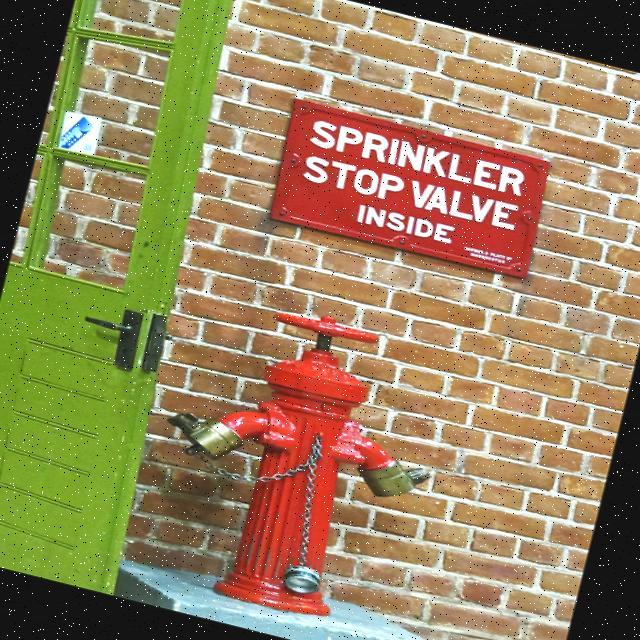fire_hydrant: (129, 286, 461, 637)
